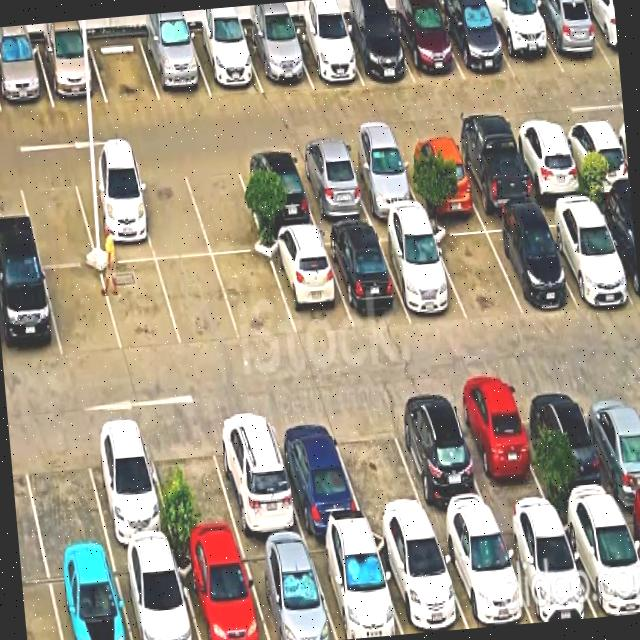empty: (329, 405, 430, 526), (144, 422, 241, 547), (18, 428, 109, 558), (429, 219, 523, 320), (182, 155, 265, 255), (131, 162, 211, 259), (17, 170, 96, 266), (157, 256, 240, 347), (100, 260, 181, 352), (43, 265, 122, 358), (213, 252, 296, 340), (88, 34, 160, 103)
occupied: (388, 397, 494, 525), (207, 410, 304, 541), (453, 391, 553, 518), (268, 411, 365, 534), (81, 424, 174, 551), (525, 385, 618, 511), (496, 515, 596, 623), (434, 520, 532, 628), (306, 532, 402, 640), (371, 528, 468, 634), (539, 202, 635, 306), (239, 539, 337, 640), (482, 214, 576, 313), (266, 231, 353, 337), (558, 505, 640, 617), (321, 226, 410, 328), (175, 543, 268, 640), (375, 223, 467, 320), (72, 166, 155, 263), (112, 548, 199, 640), (577, 382, 640, 504), (46, 554, 131, 640), (450, 130, 536, 212), (235, 151, 317, 233), (292, 146, 372, 226), (342, 142, 423, 219), (0, 264, 62, 364), (483, 3, 564, 79), (397, 136, 479, 211), (509, 123, 587, 201), (528, 0, 612, 72), (390, 8, 464, 84), (438, 6, 514, 80), (559, 119, 630, 194), (339, 15, 414, 85), (188, 30, 263, 97), (139, 31, 211, 100), (36, 38, 106, 108), (594, 200, 640, 306), (289, 23, 363, 88), (243, 27, 312, 92), (0, 42, 53, 112), (578, 0, 619, 67), (619, 502, 640, 561)
